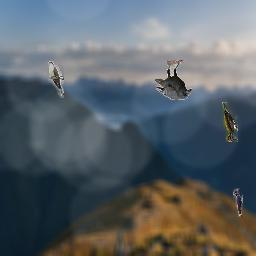Crow: (154, 60, 192, 100)
Cuckoo: (47, 61, 64, 98)
Woodpecker: (222, 102, 238, 142), (233, 188, 243, 217)
